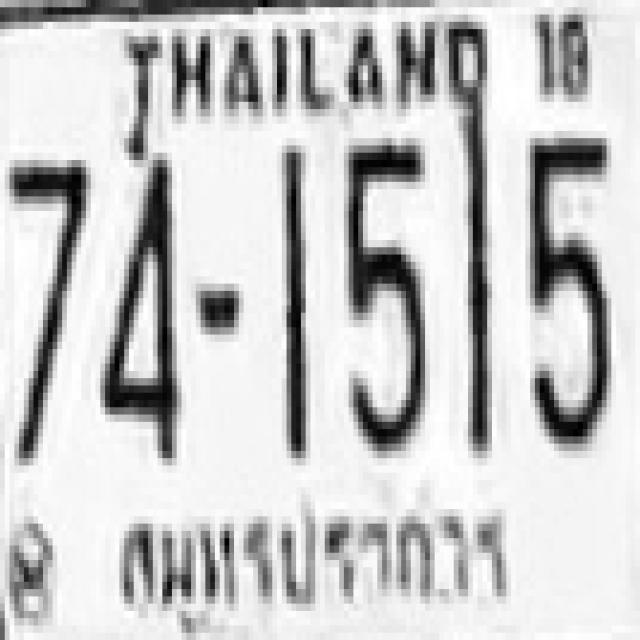1: (277, 145, 306, 451)
4: (96, 146, 176, 458)
5: (344, 135, 425, 447), (526, 131, 606, 444)
7: (5, 153, 86, 458), (5, 153, 86, 407), (5, 156, 86, 360)
SamutPrakan: (116, 489, 512, 618)
